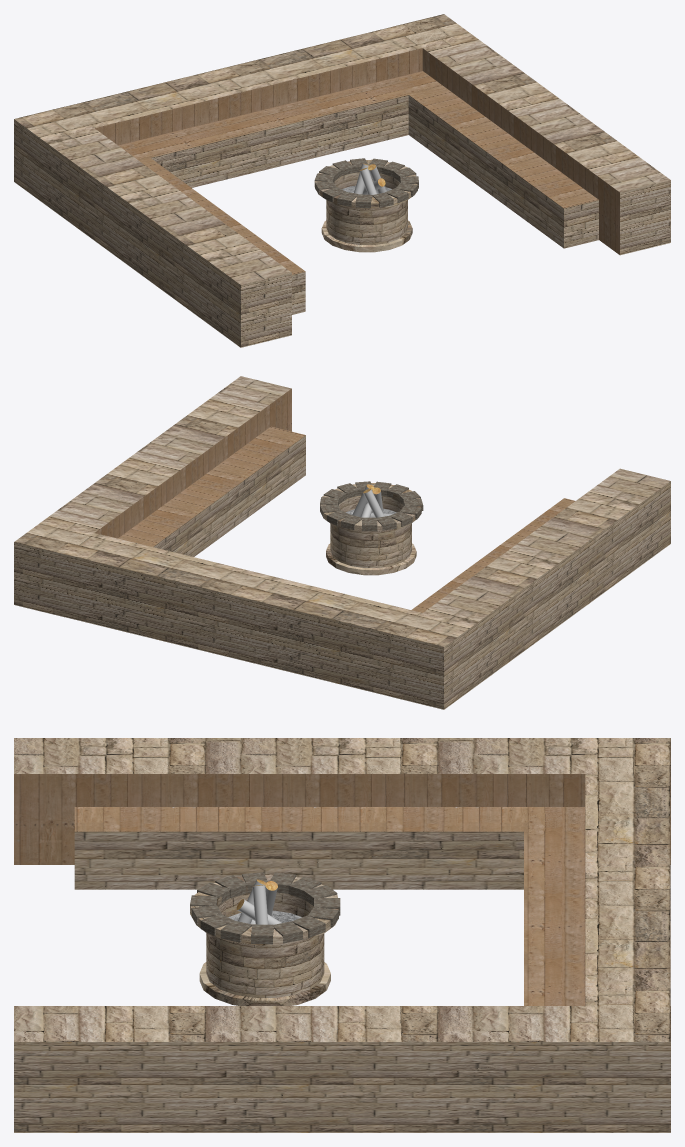
The picture shows the model from 3 angles, top to bottom: view 1: azimuth 30°, elevation 25°; view 2: azimuth 150°, elevation 25°; view 3: azimuth 270°, elevation 25°; orthographic projection. The views are drawn at different scales.
Parts seen in each view (by area): view 1: Seating_07 - Default_0, Seating_09 - Default_0, Firepit_07 - Default_0, Firepit_03 - Default_0, Firepit_01 - Default_0; view 2: Seating_07 - Default_0, Seating_09 - Default_0, Firepit_07 - Default_0, Firepit_03 - Default_0, Firepit_01 - Default_0; view 3: Seating_07 - Default_0, Seating_09 - Default_0, Firepit_07 - Default_0, Firepit_03 - Default_0, Firepit_01 - Default_0.
Part boxes in pixels (bbox=[...]): Seating_07 - Default_0: bbox=[14, 14, 670, 347]; Seating_09 - Default_0: bbox=[95, 48, 619, 274]; Firepit_07 - Default_0: bbox=[314, 159, 417, 252]; Firepit_03 - Default_0: bbox=[314, 158, 418, 208]; Firepit_01 - Default_0: bbox=[354, 163, 386, 194]; Seating_07 - Default_0: bbox=[14, 376, 670, 709]; Seating_09 - Default_0: bbox=[95, 388, 575, 612]; Firepit_07 - Default_0: bbox=[320, 483, 421, 575]; Firepit_03 - Default_0: bbox=[320, 481, 423, 531]; Firepit_01 - Default_0: bbox=[352, 486, 392, 517]; Seating_07 - Default_0: bbox=[14, 738, 670, 1132]; Seating_09 - Default_0: bbox=[14, 774, 670, 1005]; Firepit_07 - Default_0: bbox=[190, 874, 338, 1005]; Firepit_03 - Default_0: bbox=[190, 872, 340, 944]; Firepit_01 - Default_0: bbox=[237, 880, 281, 924].
Size of the model in its own units: 505 by 76.98 by 461.
